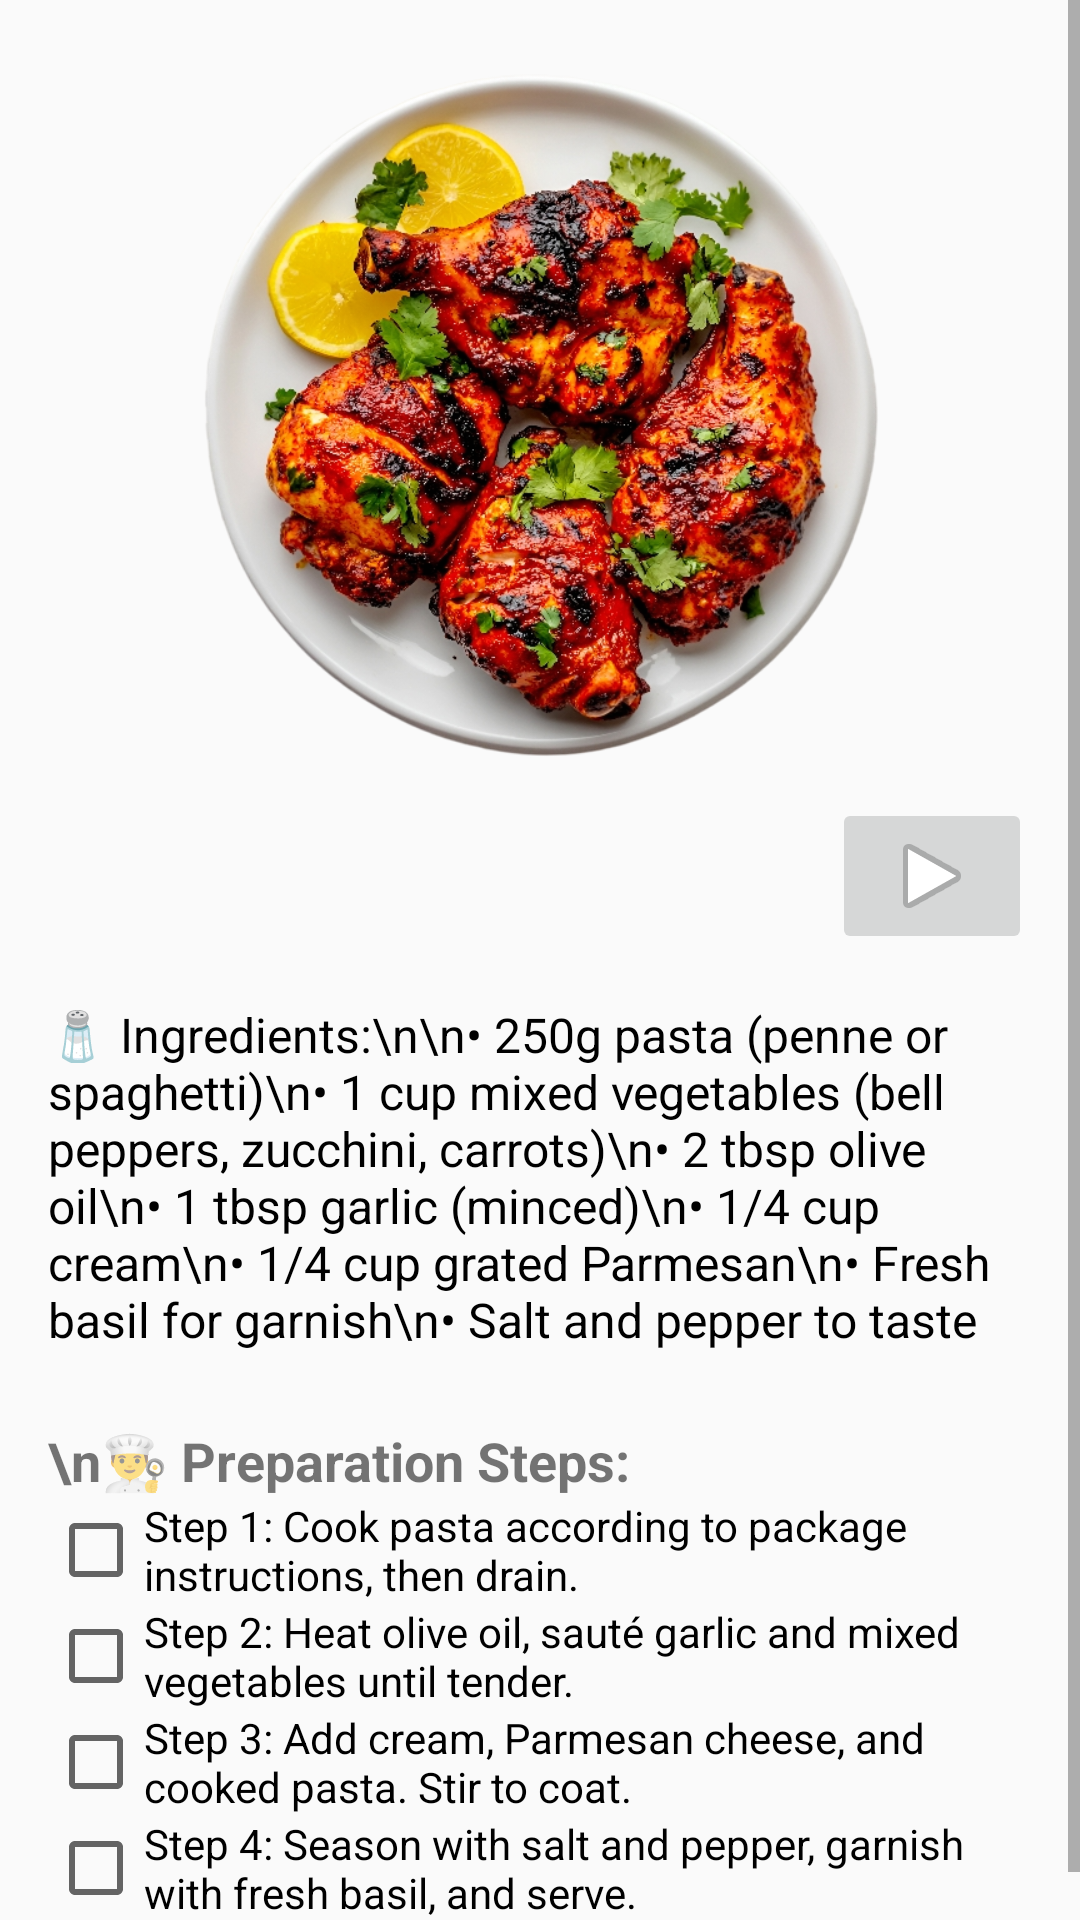

Icon bounding boxes for this 1080px x 1920px phone screenshot, format (x1, y1, x2, y2):
play: (844, 816, 1020, 936)
